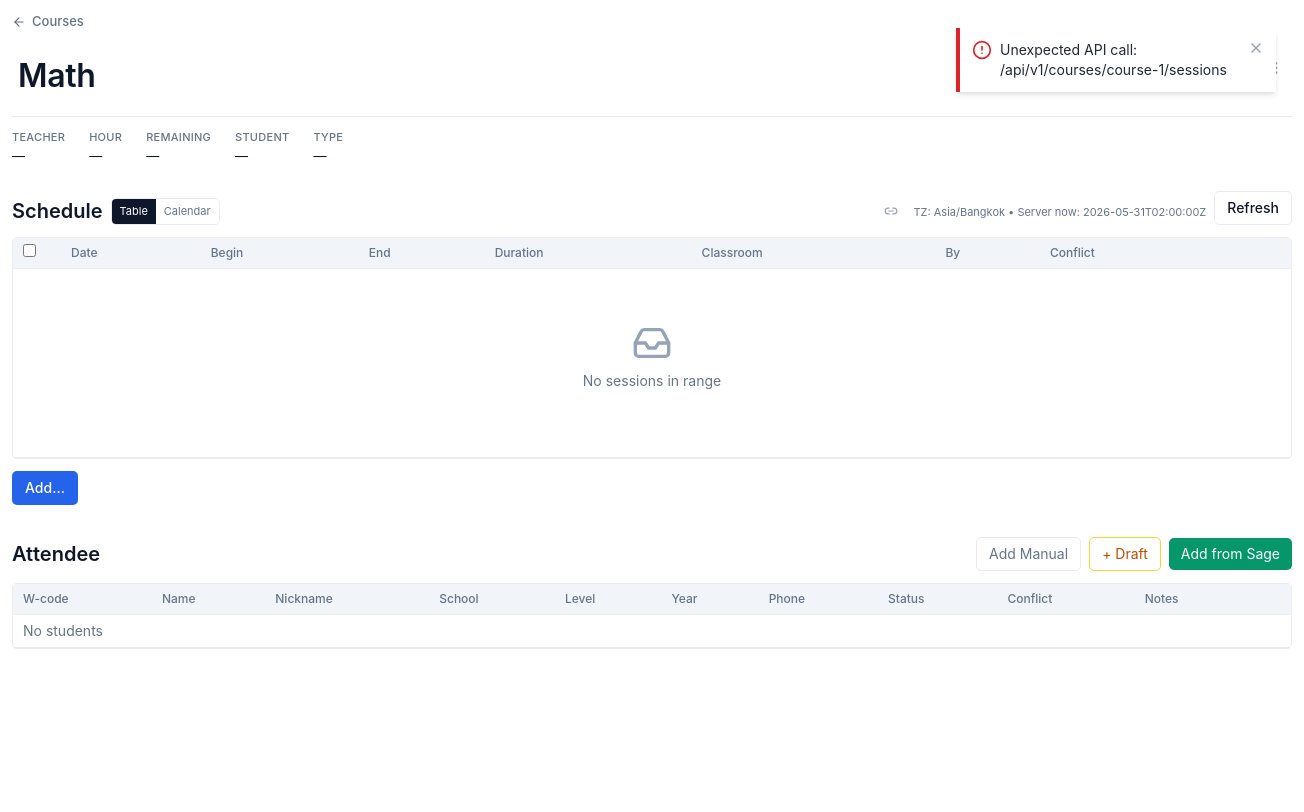
Test: CourseDetail calendar grid › toggles between table and calendar view
Expected: the button "Add…" is shown, [12,470,78,504]
Expected: the column heading "Date" is shown, [61,238,201,268]
Switch to calendar
Click the button "Calendar" at [187, 211], box [156,199,219,224]
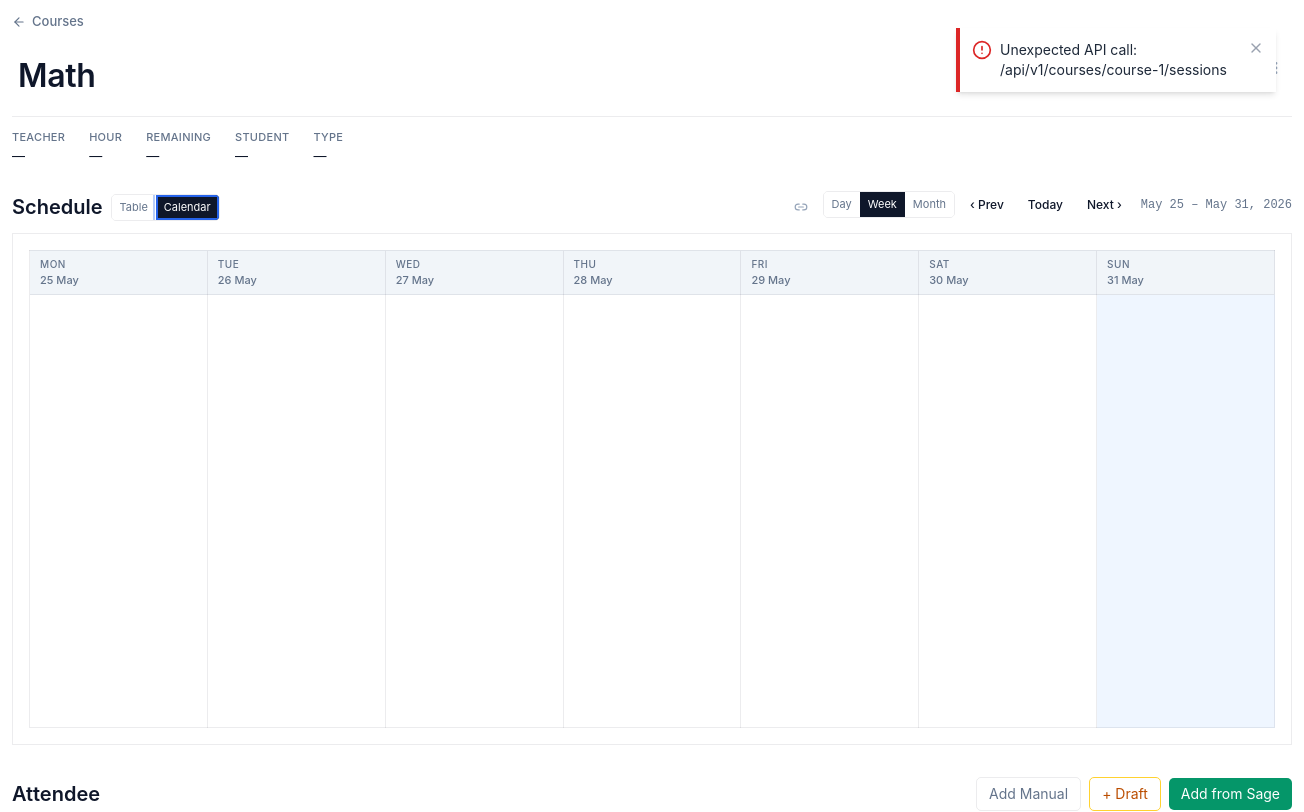
Now the button with aria-label "Previous week" is shown, box [961,190,1013,218]
Switch back to table
Click the button "Table" at [134, 207], box [112,195,156,220]
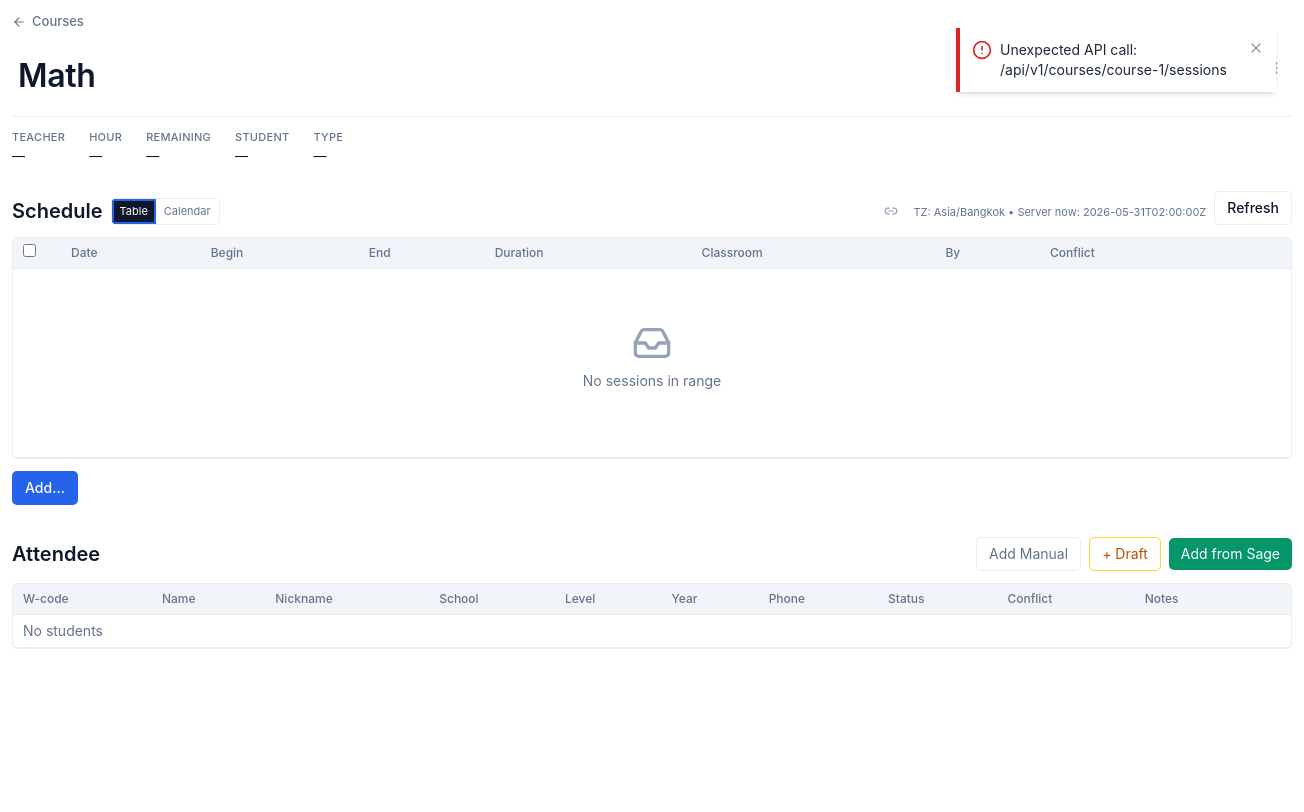
Now the column heading "Date" is shown, box [61,238,201,268]
